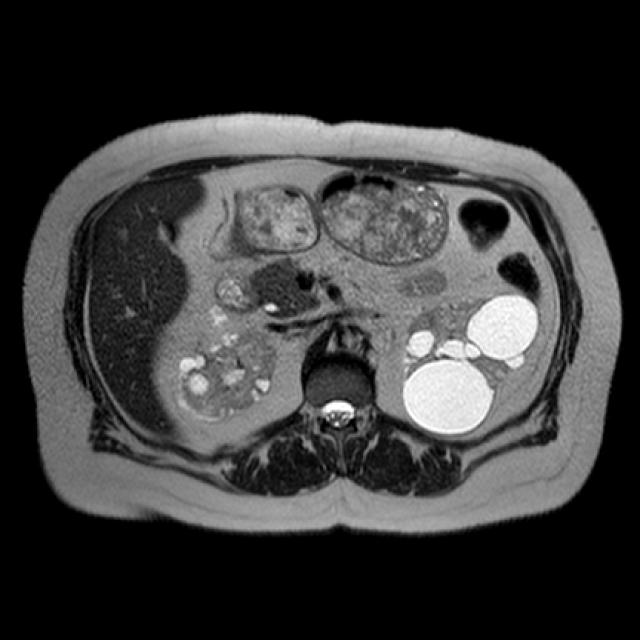sag: (175, 331, 279, 417)
sol: (401, 292, 543, 436)
